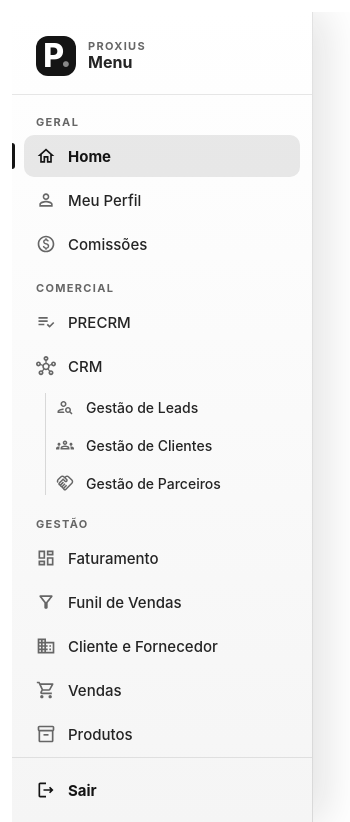
Test case: Sidebar › fecha ao clicar em Comissões e preserva a rota
The image size is (350, 822).
Click the link "Comissões". click: point(92, 244)
box: x1=36 y1=234 x2=147 y2=254
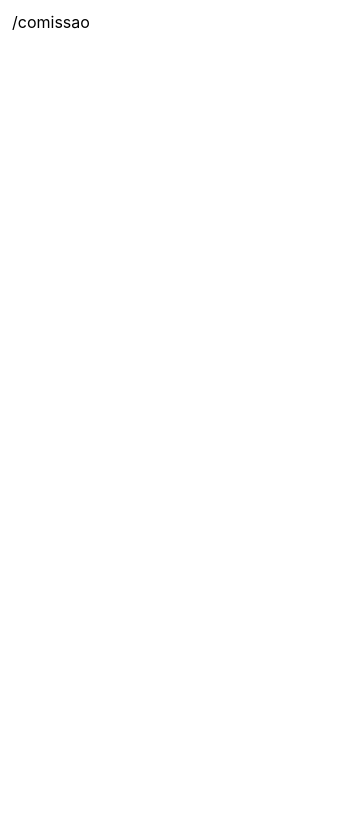
Now the text named "Rota atual" reads "/comissao", box x1=12 y1=12 x2=90 y2=32
